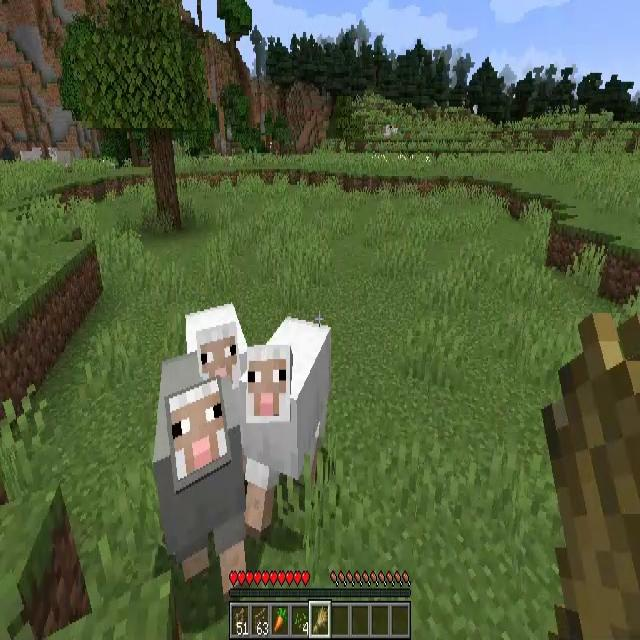sheep: (154, 380, 248, 570), (245, 322, 332, 523), (184, 306, 246, 377)
